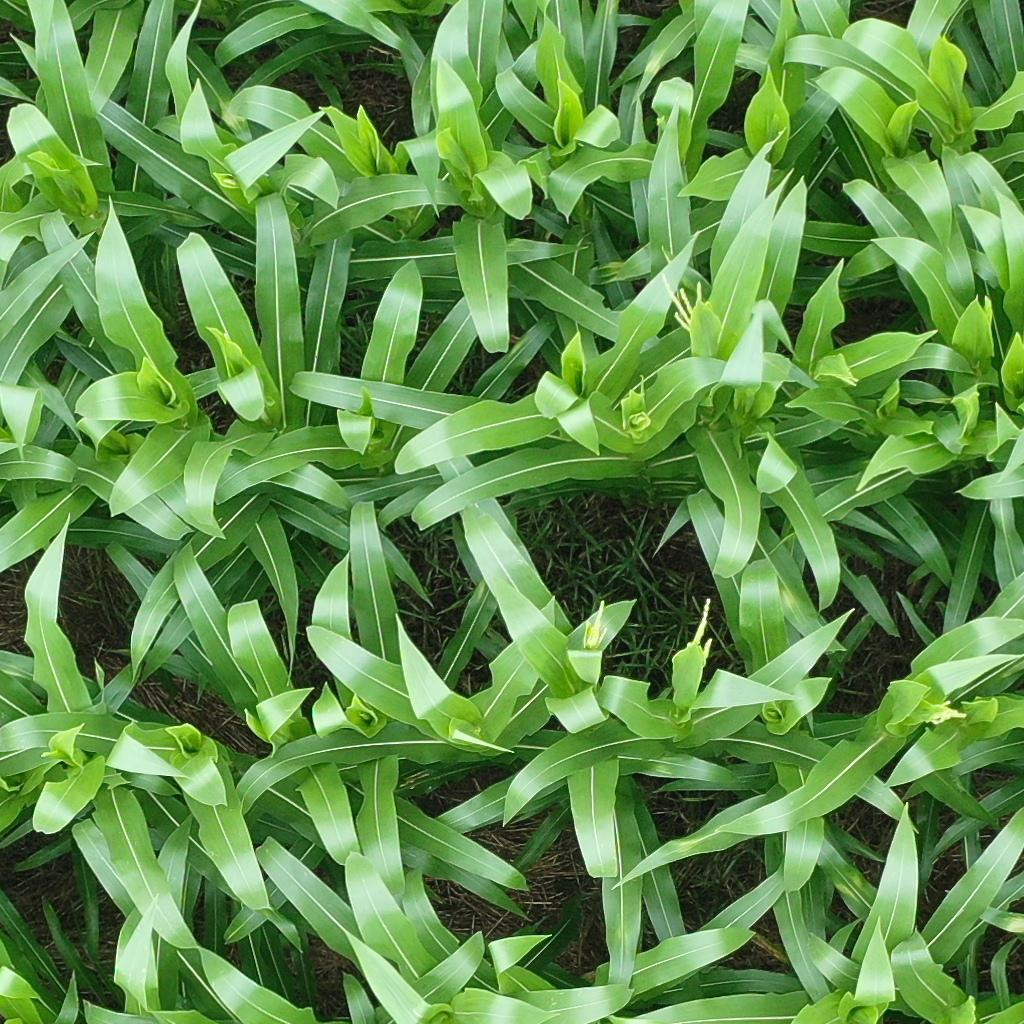Tassel: (660, 270, 703, 332), (689, 596, 717, 663), (580, 596, 608, 652), (927, 695, 968, 727), (37, 750, 59, 759)
